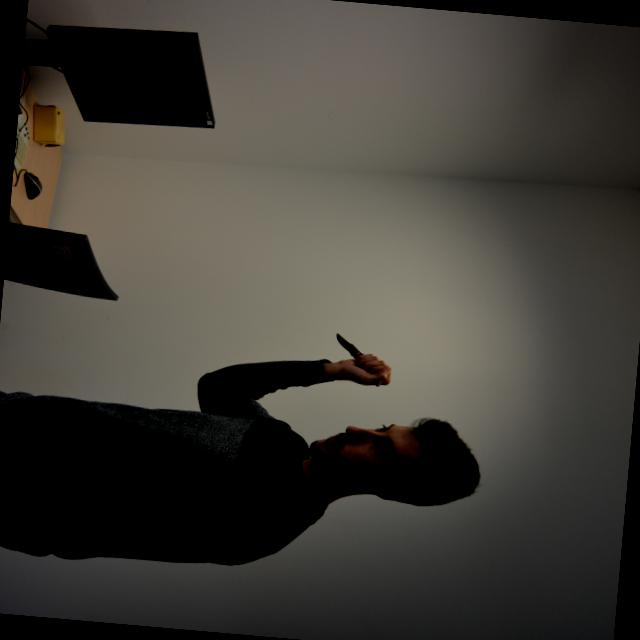knife: (328, 328, 388, 388)
